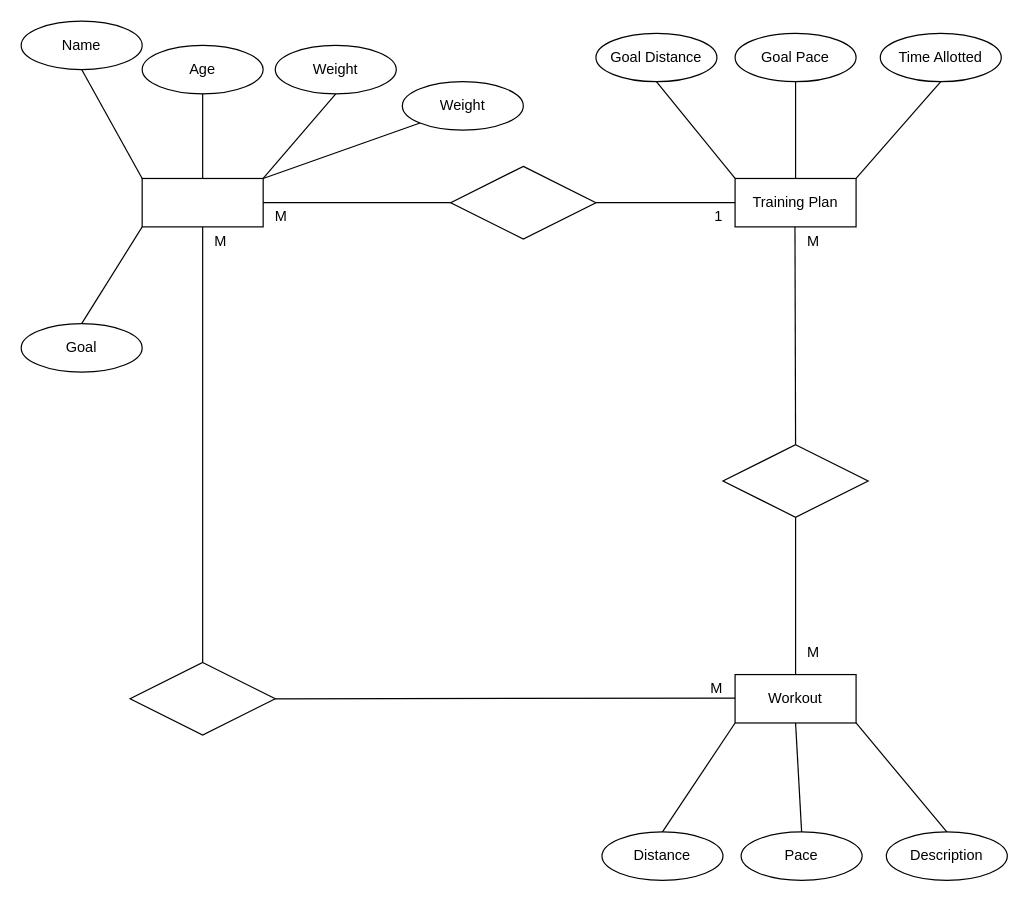
Some shapes in this 1029 by 901 pixel diagram are drawn without their labels. Each missing label, with the centre of its shape:
"Contains" goes at (x=795, y=480).
"Performs" goes at (x=202, y=698).
"Runner" goes at (x=202, y=202).
"Subscribes to" goes at (x=523, y=202).
